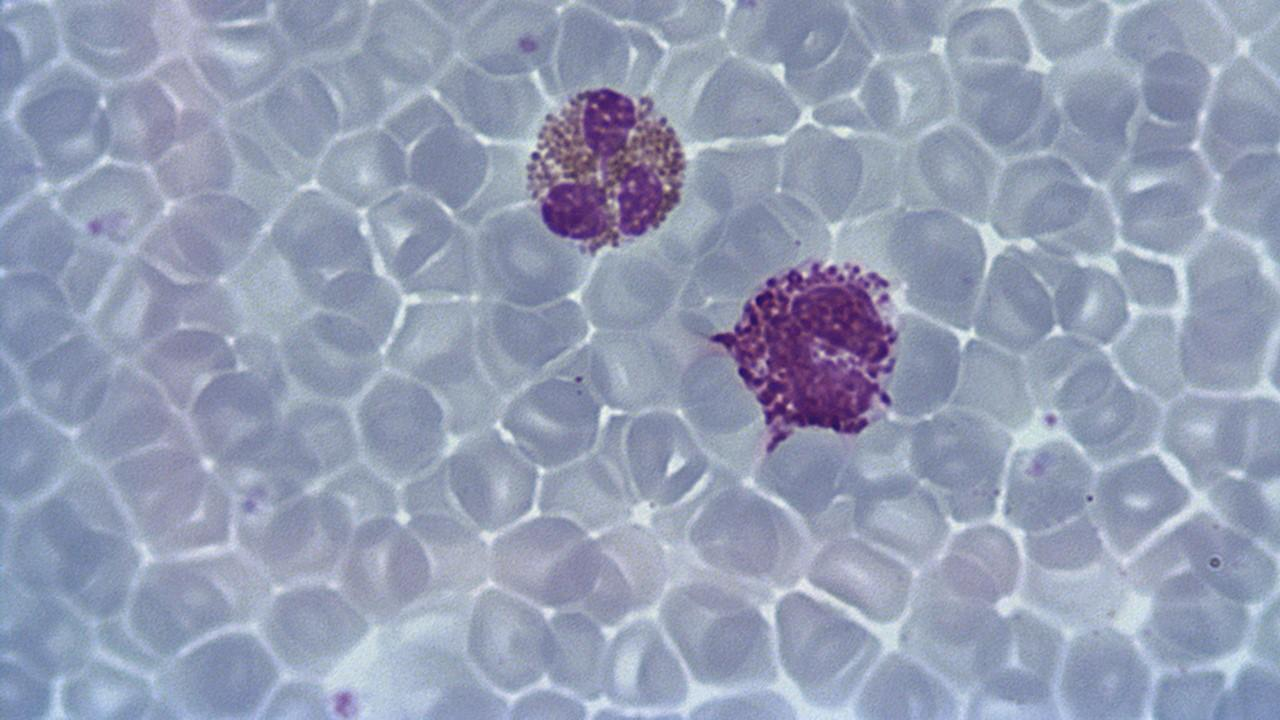RBC: (485, 514, 603, 610), (354, 370, 451, 478), (278, 307, 387, 403), (442, 430, 541, 532), (339, 512, 433, 619), (803, 534, 914, 624), (462, 584, 552, 694), (498, 375, 604, 468), (855, 46, 957, 142), (144, 105, 240, 205), (90, 258, 182, 359), (165, 186, 264, 279), (189, 369, 281, 469), (52, 1, 165, 82), (21, 332, 114, 430), (578, 247, 677, 338), (187, 20, 290, 101), (313, 124, 410, 210), (0, 403, 74, 504), (97, 76, 179, 166), (1116, 177, 1208, 257), (0, 266, 75, 364), (1052, 261, 1132, 348), (1012, 0, 1118, 65), (1140, 47, 1216, 123), (0, 8, 30, 115)
WBC: (619, 201, 970, 457), (718, 246, 905, 440), (517, 76, 687, 253)
